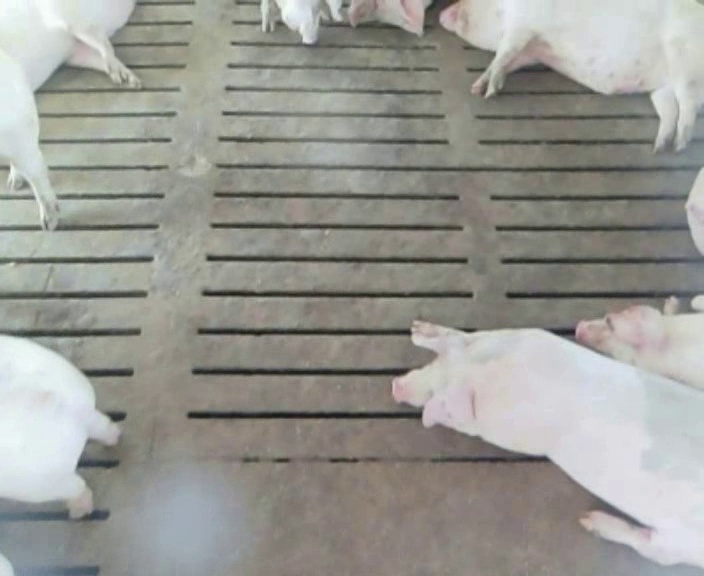pig: (392, 322, 703, 566), (440, 2, 703, 150), (576, 296, 703, 388)
